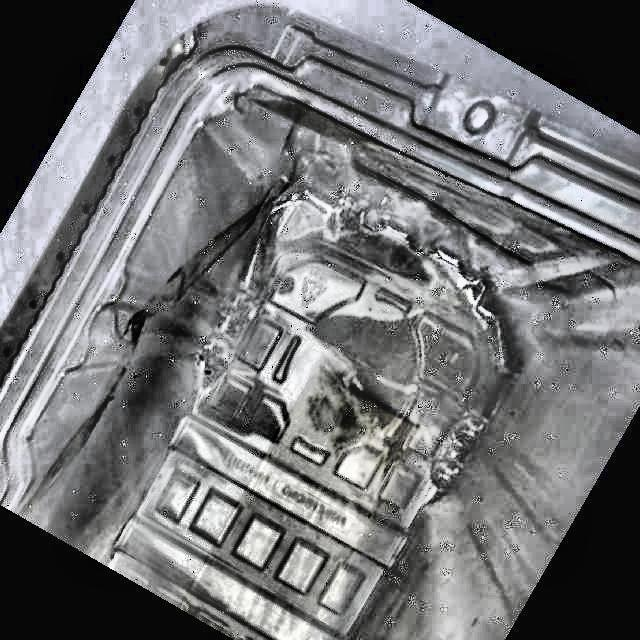plastic: (0, 8, 640, 640)
